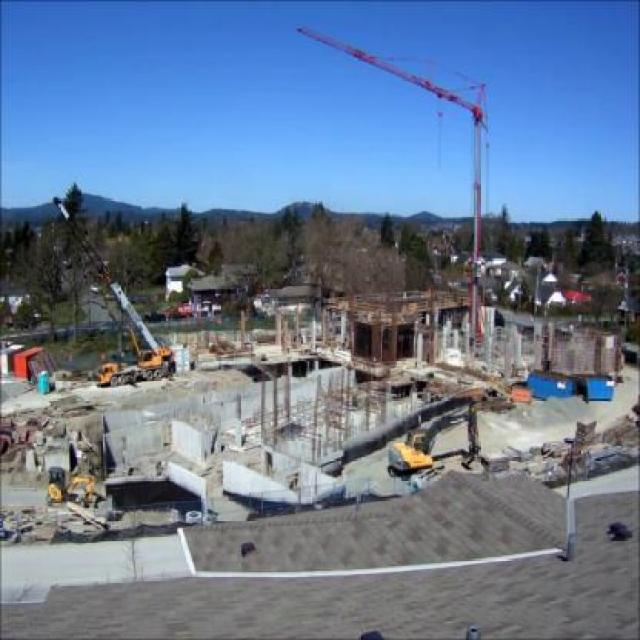Excavator: (384, 404, 482, 478)
Mobile Crane: (51, 191, 174, 387)
